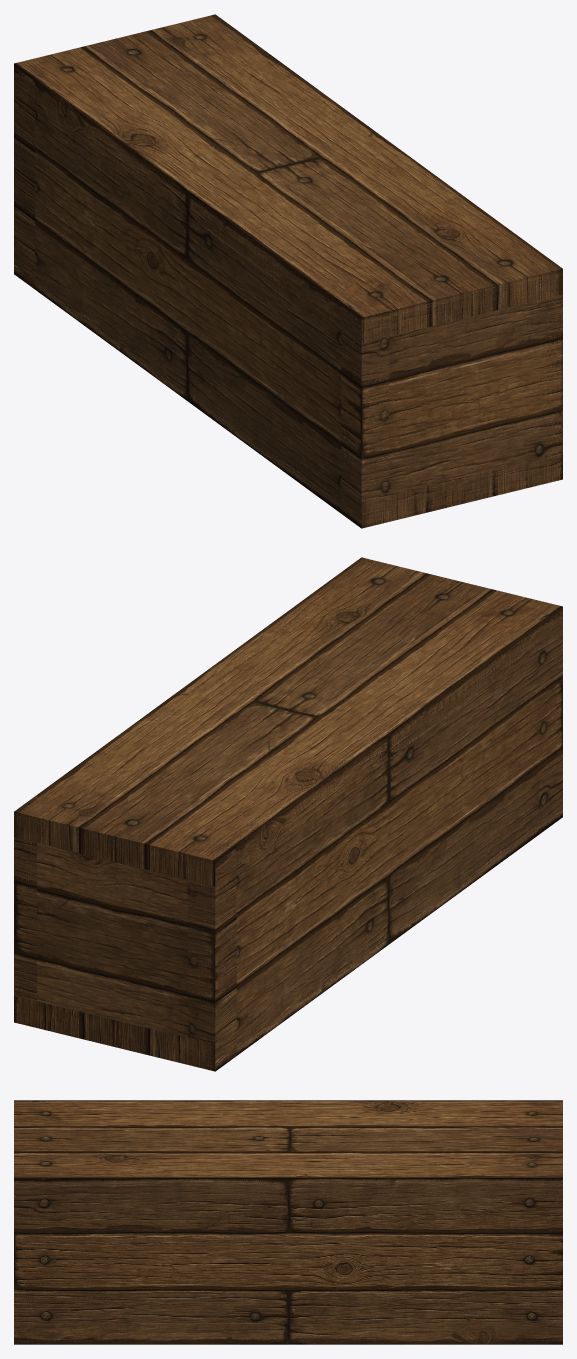
File: Jenga_Block_Drop.fbx
3 views of the same model, one above another, from view 1: azimuth 30°, elevation 25°; view 2: azimuth 150°, elevation 25°; view 3: azimuth 270°, elevation 25° (orthographic). The views are drawn at different scales.
Parts seen in each view (by area): view 1: Jenga_Block_Drop.001, Jenga_Block_Drop.005, Jenga_Block_Drop.003, Jenga_Block_Drop.000, Jenga_Block_Drop.002, Jenga_Block_Drop.004; view 2: Jenga_Block_Drop.001, Jenga_Block_Drop.005, Jenga_Block_Drop.004, Jenga_Block_Drop.000, Jenga_Block_Drop.002; view 3: Jenga_Block_Drop.002, Jenga_Block_Drop.001, Jenga_Block_Drop.000, Jenga_Block_Drop.003.
Part boxes in pixels (x1,y1,x2,y2): Jenga_Block_Drop.001: (14,14,562,343); Jenga_Block_Drop.005: (14,84,389,527); Jenga_Block_Drop.003: (341,268,562,528); Jenga_Block_Drop.000: (14,248,562,528); Jenga_Block_Drop.002: (195,15,562,466); Jenga_Block_Drop.004: (14,23,227,289); Jenga_Block_Drop.001: (14,557,562,886); Jenga_Block_Drop.005: (187,607,562,1071); Jenga_Block_Drop.004: (14,796,236,1067); Jenga_Block_Drop.000: (14,791,562,1071); Jenga_Block_Drop.002: (14,557,382,1026); Jenga_Block_Drop.002: (14,1169,562,1344); Jenga_Block_Drop.001: (14,1100,562,1198); Jenga_Block_Drop.000: (14,1323,562,1344); Jenga_Block_Drop.003: (14,1178,45,1343).
Bounding box in the file's own units: 49.97 × 49.95 × 149.
